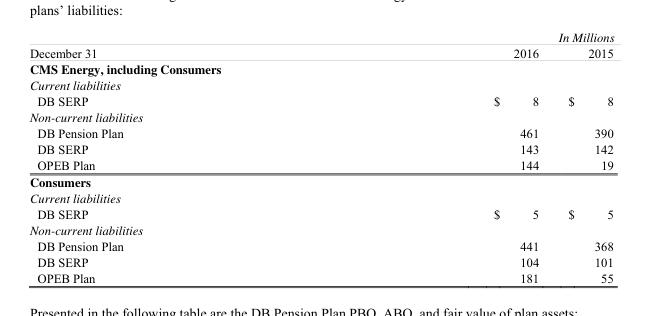table: (28, 28, 613, 284)
table column: (28, 28, 307, 284), (307, 28, 548, 284), (548, 28, 613, 284)
table column header: (28, 28, 613, 59)
table projected row header: (28, 59, 613, 77), (28, 172, 613, 190), (28, 108, 613, 125), (28, 77, 613, 93), (28, 221, 613, 237), (28, 190, 613, 205)
table row: (28, 28, 613, 59), (28, 59, 613, 77), (28, 172, 613, 190), (28, 108, 613, 125), (28, 77, 613, 93), (28, 125, 613, 141), (28, 141, 613, 157), (28, 205, 613, 221), (28, 221, 613, 237), (28, 237, 613, 253), (28, 253, 613, 269), (28, 93, 613, 108), (28, 157, 613, 172), (28, 190, 613, 205), (28, 269, 613, 284)
